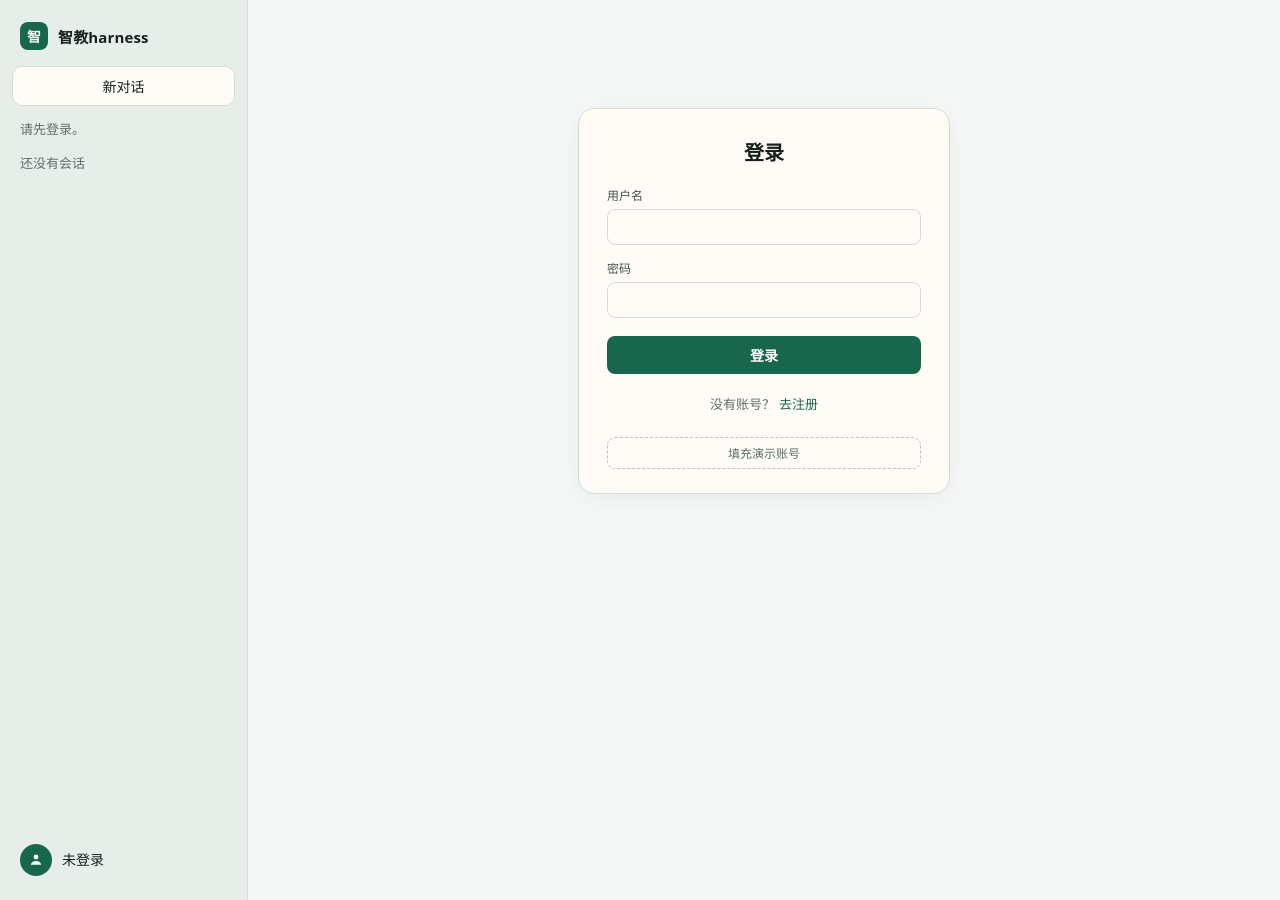
Test: 工作台 › 左下角显示未登录，点击后左侧变成设置导航
The image size is (1280, 900).
What coordinates should you click on to do the following:
click the button "未登录"
I would click on:
 (124, 860)
Its box is [12,836,235,884].
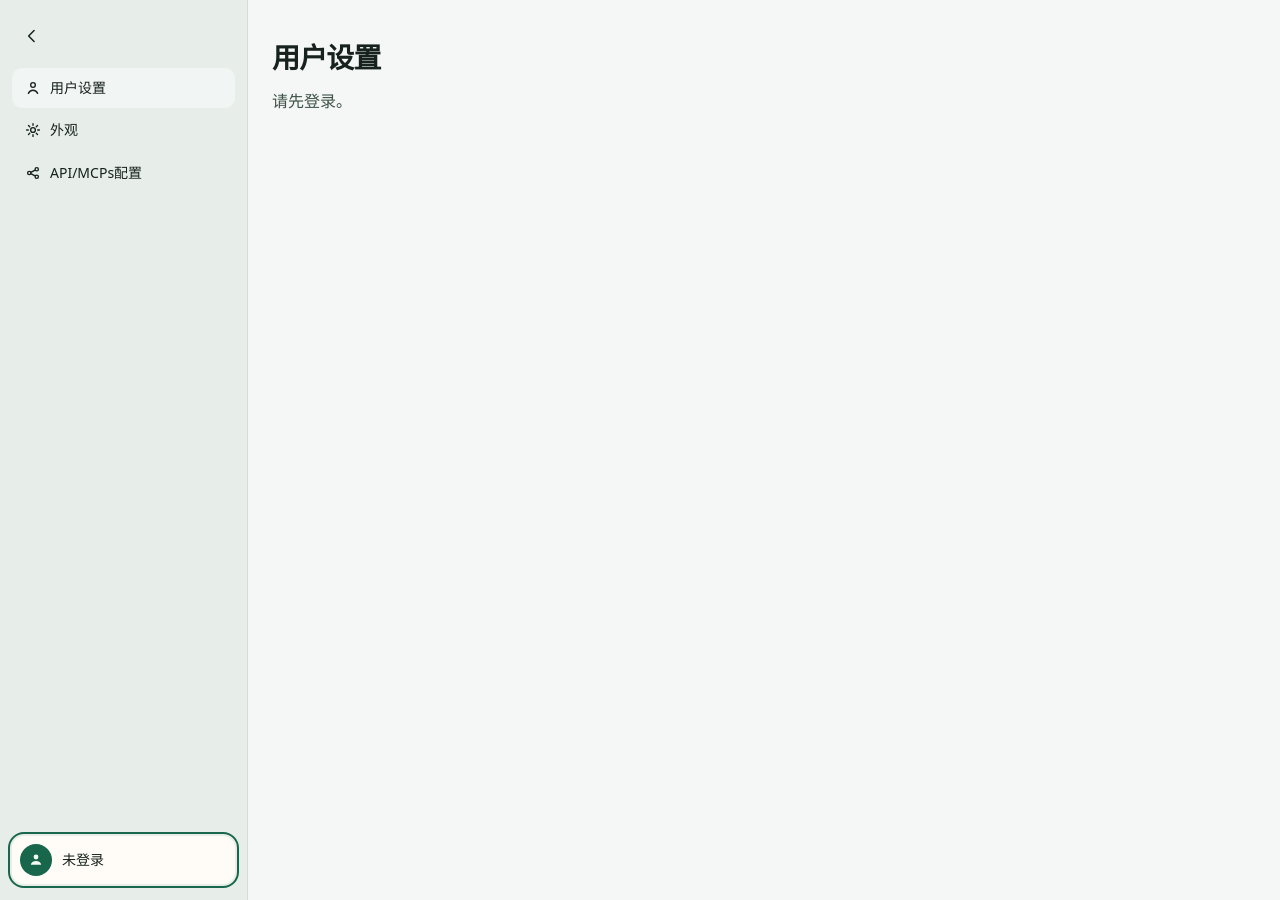
Expected: the button "新对话" is gone
Expected: the navigation bar "设置" is shown, [12,68,235,193]
Expected: the heading "用户设置" is shown, [272,38,381,76]
What coordinates should you click on to do the following:
click the button "外观"
I would click on:
 (124, 130)
Its box is [12,110,235,151].
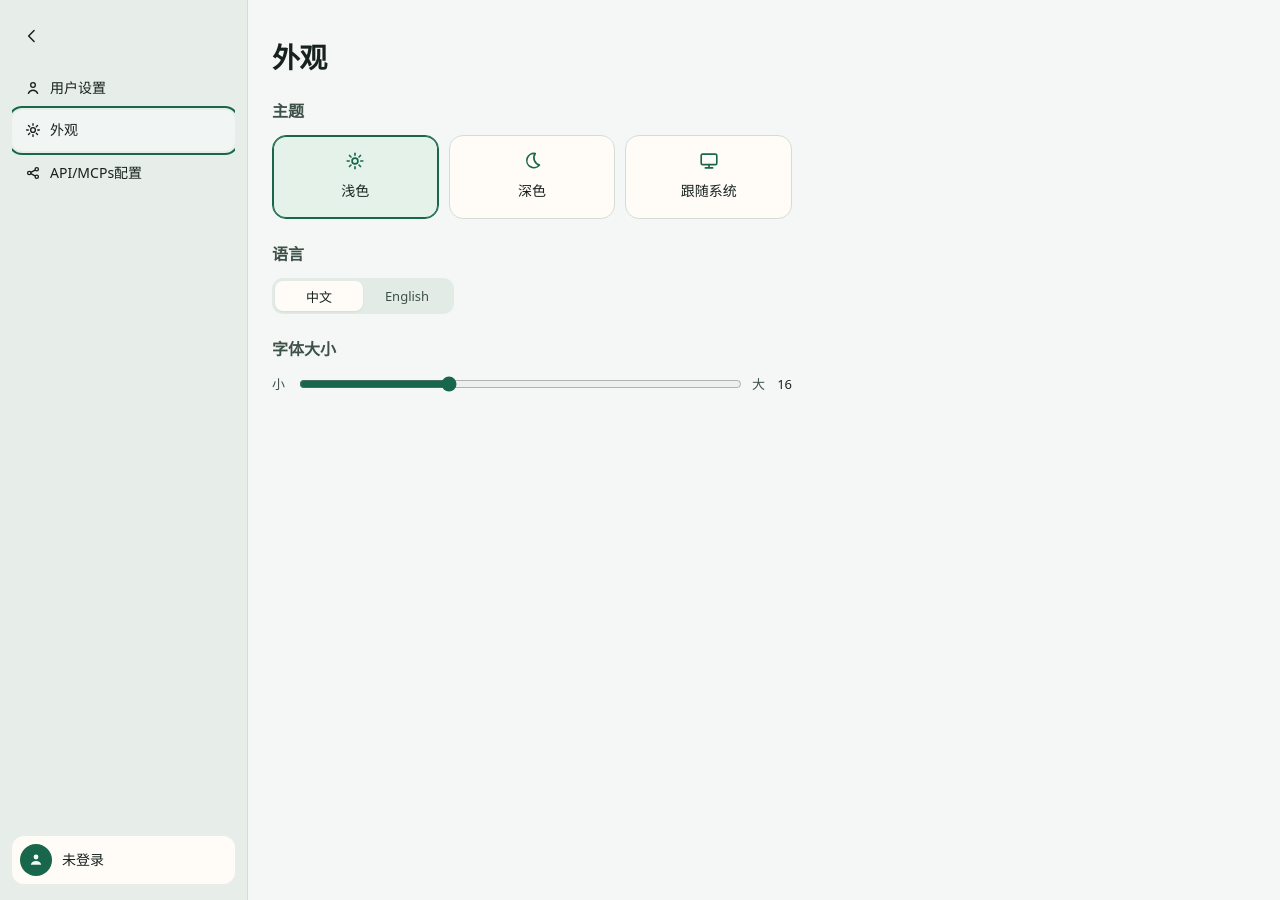
Expected: the heading "外观" is shown, [272,38,326,76]
What coordinates should you click on to do the following:
click the button "API/MCPs配置"
I would click on:
 (124, 173)
Its box is [12,153,235,193].
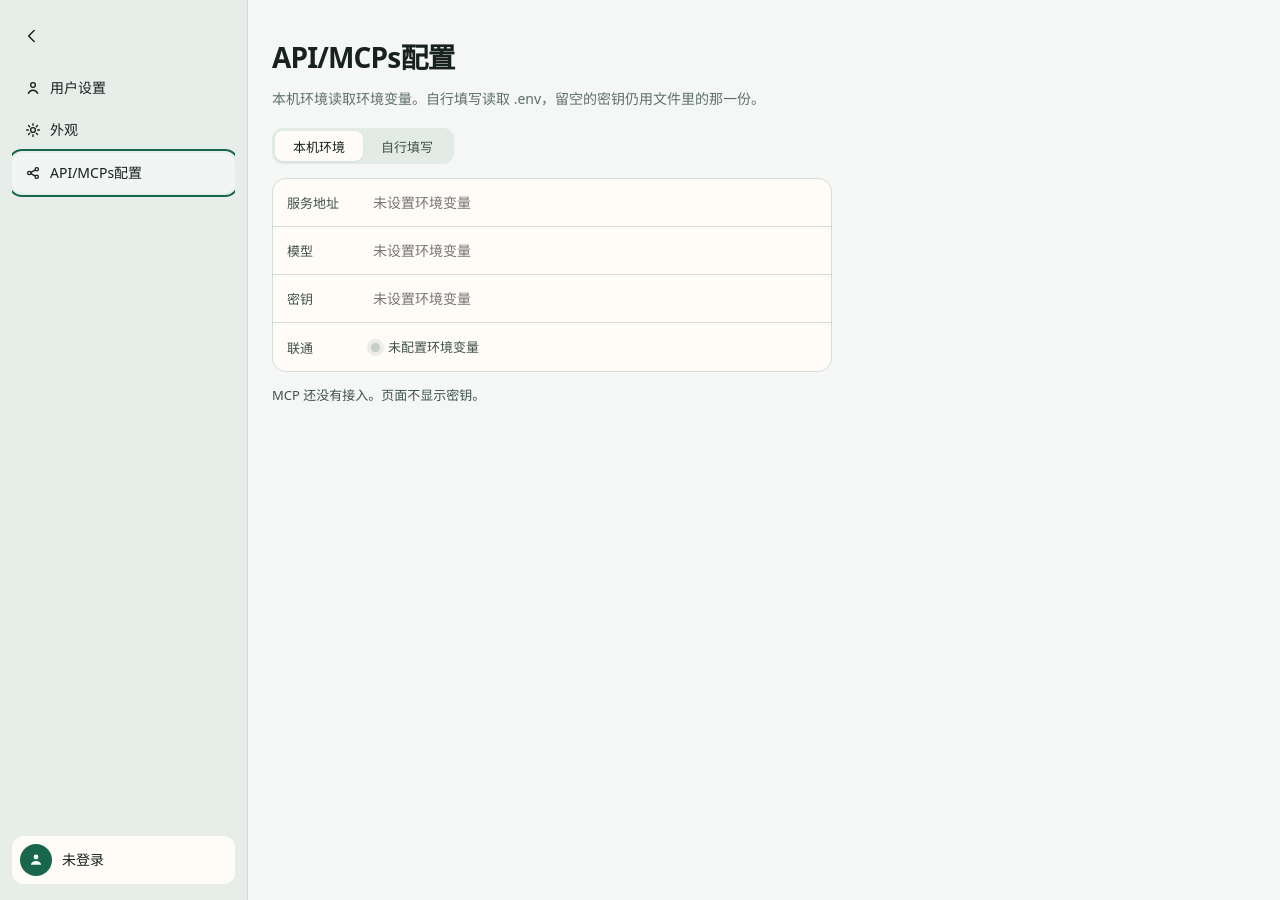
Expected: the heading "API/MCPs配置" is shown, [272,38,455,76]
What coordinates should you click on to do the following:
click the button named "返回"
I would click on:
 (32, 36)
Its box is [14,18,50,54].
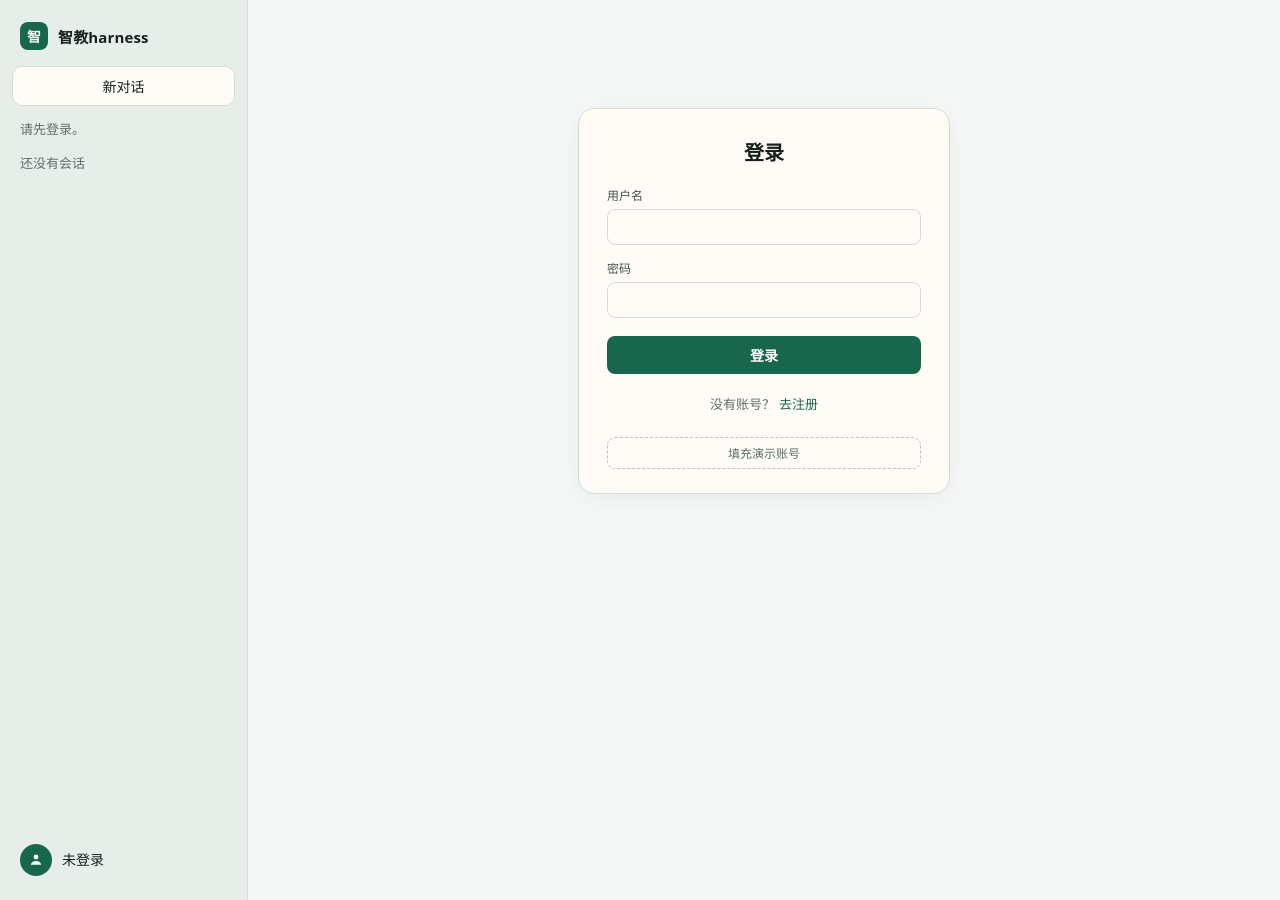
Expected: the heading "登录" is shown, [744,139,784,166]
